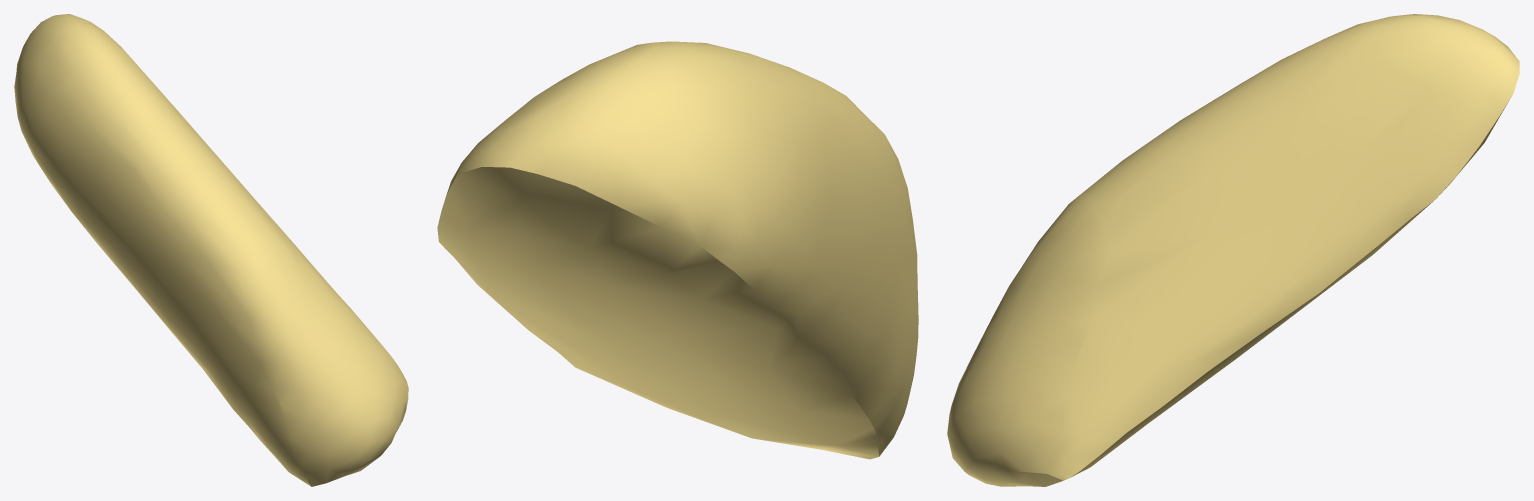
File: fma73330_mm2959.glb
3 views of the same model, side by side, from view 1: azimuth 30°, elevation 25°; view 2: azimuth 150°, elevation 25°; view 3: azimuth 270°, elevation 25° (orthographic). The views are drawn at different scales.
Parts seen in each view (by area): view 1: FMA73330_MM2959; view 2: FMA73330_MM2959; view 3: FMA73330_MM2959.
Boxes of the visible parts, box(x1,y1,x2,y2) form: FMA73330_MM2959: box(14, 14, 408, 486); FMA73330_MM2959: box(437, 41, 918, 459); FMA73330_MM2959: box(947, 14, 1519, 486).
Bounding box in the file's own units: 0.00251 × 0.0034 × 0.00426.
